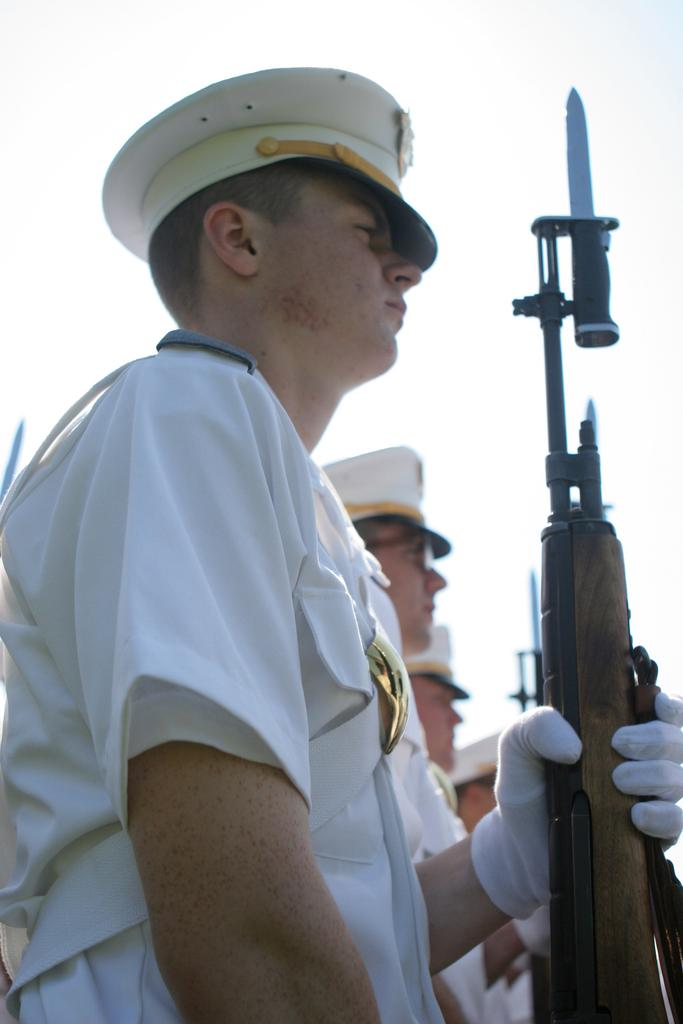Hat: (98, 66, 451, 272), (316, 444, 451, 566), (400, 620, 465, 696)
